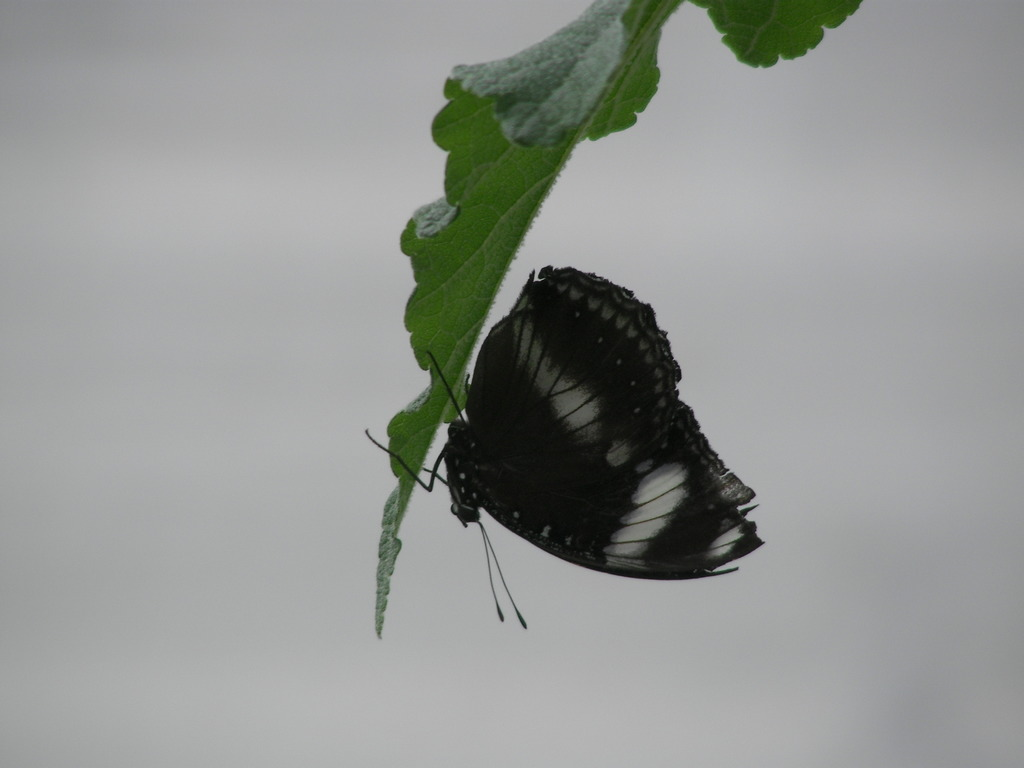Butterfly: (417, 239, 775, 665)
